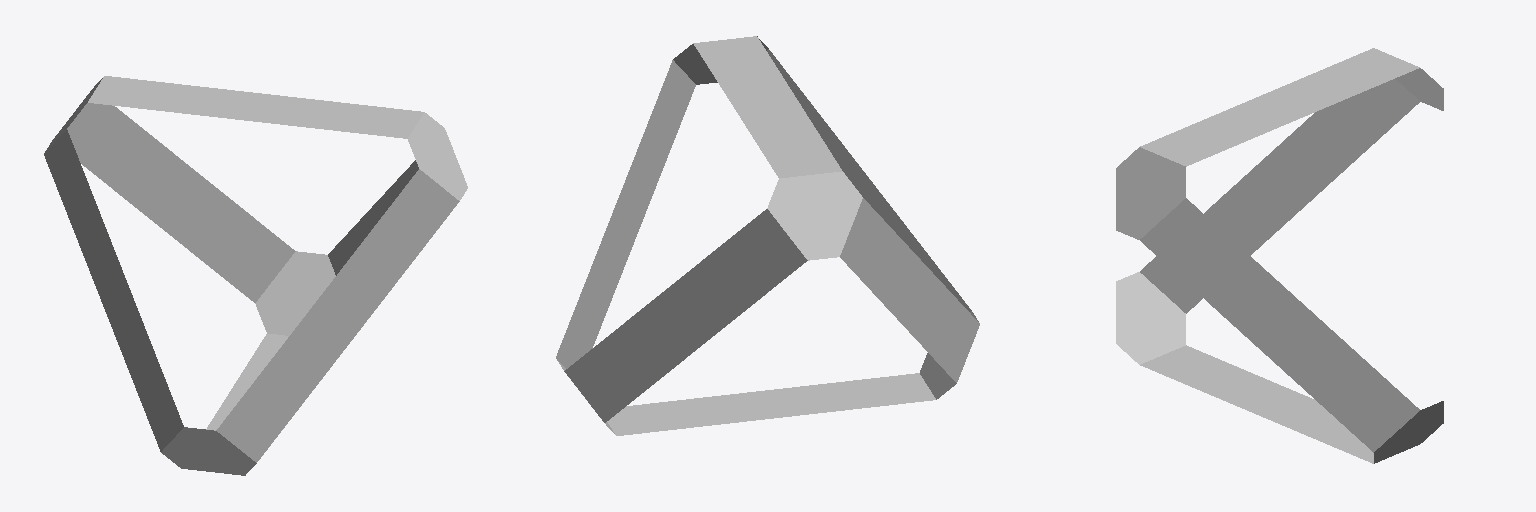
File: teta.obj
The picture shows the model from 3 angles: view 1: azimuth 30°, elevation 25°; view 2: azimuth 150°, elevation 25°; view 3: azimuth 270°, elevation 25°; orthographic projection.
Visible parts, largest first — view 1: teta, teta.001; view 2: teta, teta.001; view 3: teta, teta.001.
Part boxes in pixels (x1,y1,x2,y2): teta: (44, 76, 467, 475); teta.001: (44, 76, 466, 474); teta: (556, 36, 979, 435); teta.001: (557, 36, 979, 435); teta: (1116, 48, 1443, 463); teta.001: (1116, 48, 1443, 463).
Size of the model in its own units: 1.4 by 1.4 by 1.4.